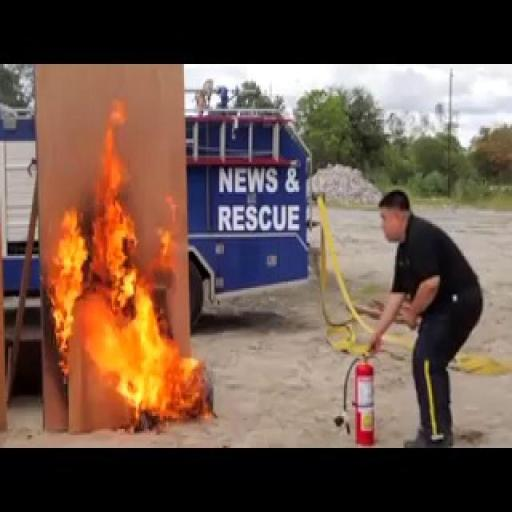smoke: (44, 128, 214, 431)
